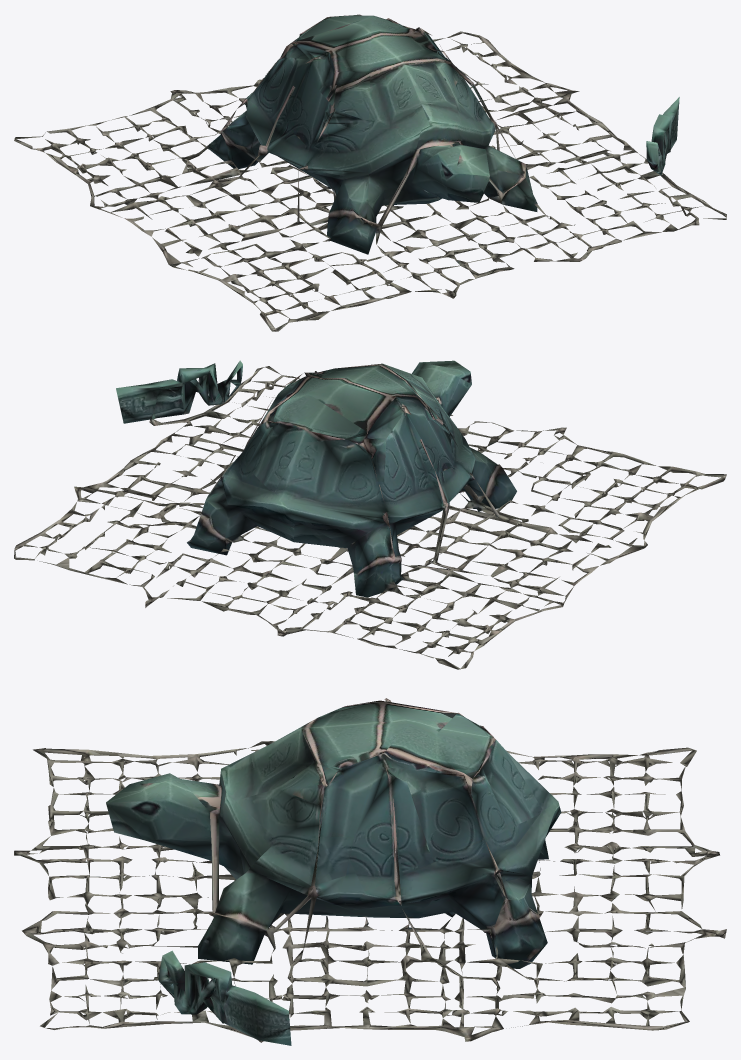
Rendered from ss_diwang.glb.
3 renders of one model, top to bottom at view 1: azimuth 30°, elevation 25°; view 2: azimuth 150°, elevation 25°; view 3: azimuth 270°, elevation 25°, orthographic. The views are drawn at different scales.
Visible parts, largest first — view 1: tripo_node_3091d646-1764-4781-924a-43a1fbe7f01d; view 2: tripo_node_3091d646-1764-4781-924a-43a1fbe7f01d; view 3: tripo_node_3091d646-1764-4781-924a-43a1fbe7f01d.
Boxes of the visible parts, bbox=[...] form: tripo_node_3091d646-1764-4781-924a-43a1fbe7f01d: bbox=[14, 14, 726, 331]; tripo_node_3091d646-1764-4781-924a-43a1fbe7f01d: bbox=[14, 360, 726, 669]; tripo_node_3091d646-1764-4781-924a-43a1fbe7f01d: bbox=[14, 698, 726, 1045].
Bounding box in the file's own units: 0.9589 × 0.2631 × 0.9128.
1 material, 1 textured.
